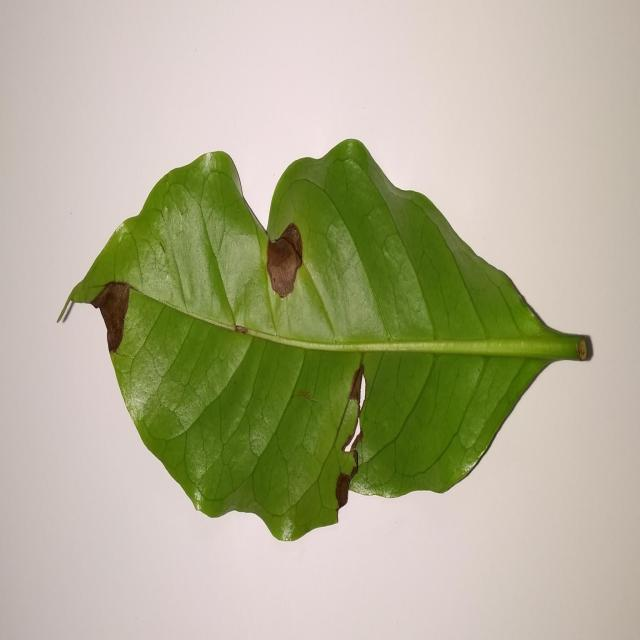Enfermedad-Antracnosis: (56, 141, 593, 545)
